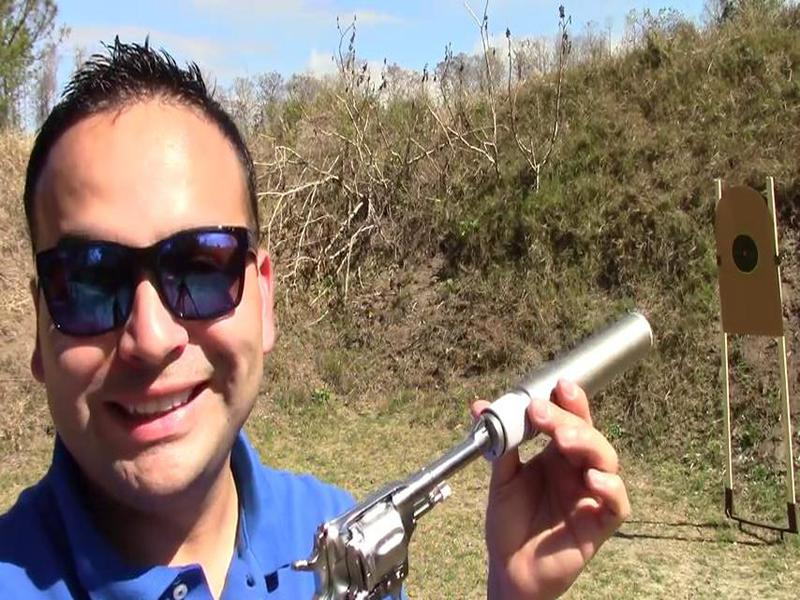Revolver: (243, 415, 504, 600)
